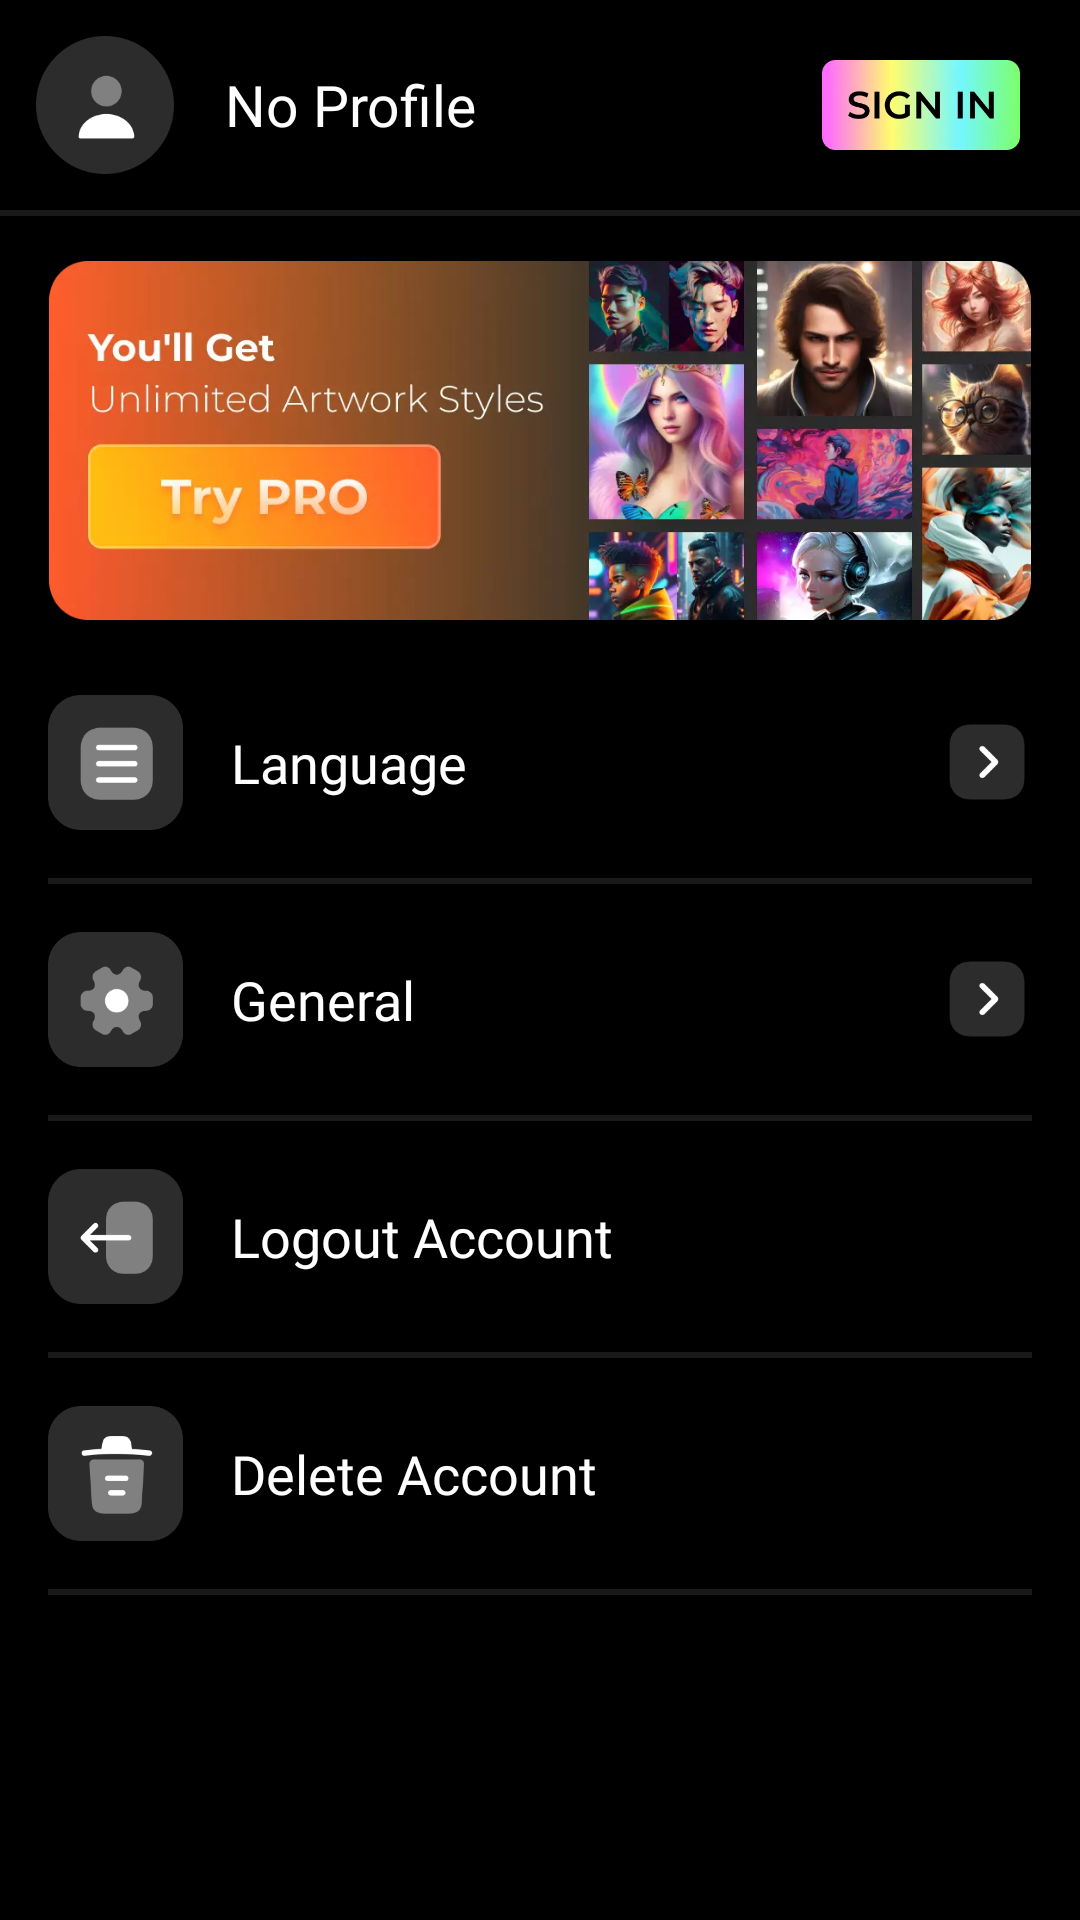

Point at icon controls on the screen. Image size 1080x1920, points as (x=x, y=y).
setting arrow: (x=987, y=762), (x=987, y=999)
user profile: (x=105, y=105)
